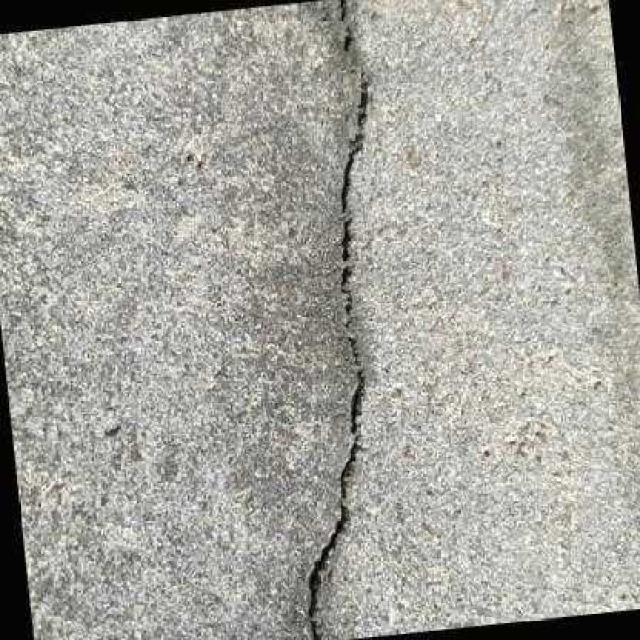D00: (305, 0, 368, 640)
